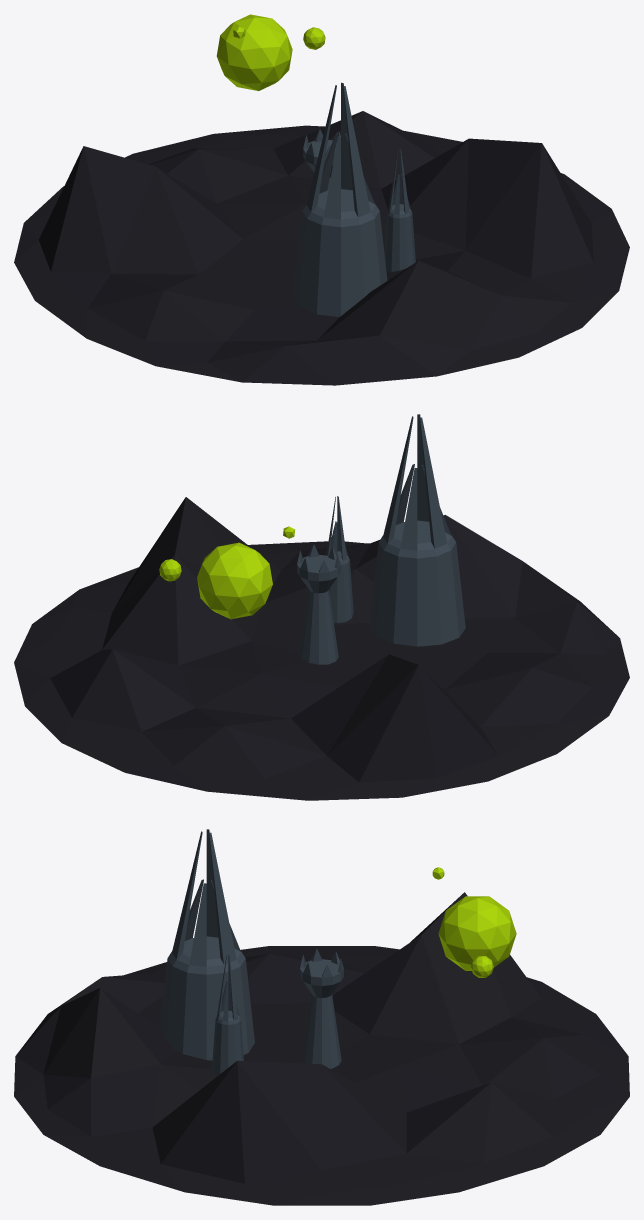
Rendered from lobby-scifi.dae.
3 views of the same model, one above another, from view 1: azimuth 30°, elevation 25°; view 2: azimuth 150°, elevation 25°; view 3: azimuth 270°, elevation 25° (orthographic).
Parts seen in each view (by area): view 1: Icosphere, Cone, Icosphere_001, Cone_001, Cone_002; view 2: Icosphere, Cone, Icosphere_001, Cone_002, Cone_001; view 3: Icosphere, Cone, Icosphere_001, Cone_002, Cone_001.
Boxes of the visible parts, box(x1,y1,x2,y2) form: Icosphere: box(14, 111, 629, 385); Cone: box(293, 82, 387, 316); Icosphere_001: box(216, 14, 292, 90); Cone_001: box(384, 148, 415, 271); Cone_002: box(303, 129, 340, 190); Icosphere: box(14, 497, 629, 800); Cone: box(369, 414, 465, 646); Icosphere_001: box(197, 542, 272, 619); Cone_002: box(297, 544, 340, 664); Cone_001: box(326, 496, 353, 623); Icosphere: box(14, 892, 629, 1205); Cone: box(160, 829, 254, 1060); Icosphere_001: box(438, 896, 516, 970); Cone_002: box(300, 949, 343, 1068); Cone_001: box(212, 955, 243, 1075).
Size of the model in its own units: 47.03 by 47.2 by 22.75.
